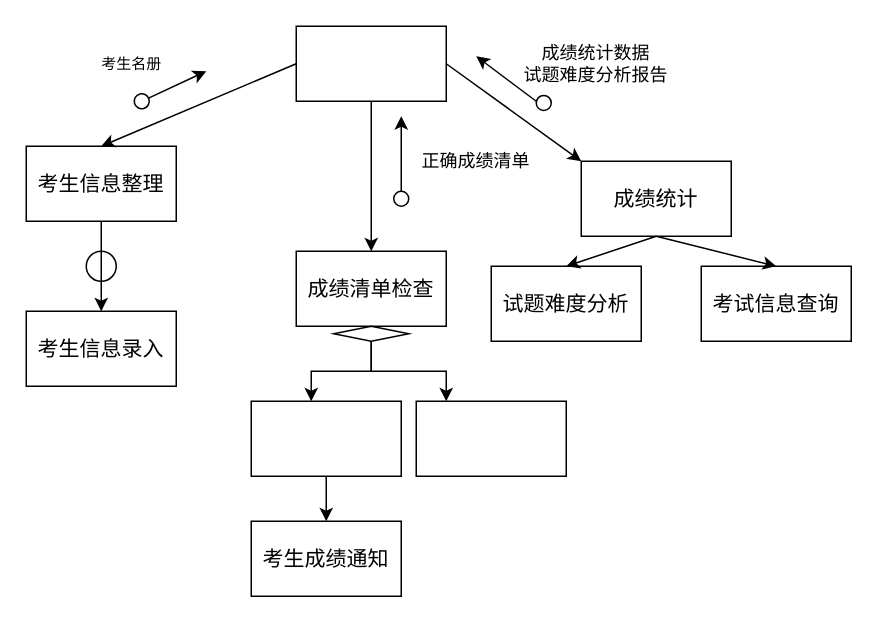
This 878x623 diagram has some shape labels left out. The centre of each missing label's shape, as x and y in pixels:
合格考生审定: the point at 325,438
考务管理: the point at 370,63
错误成绩返回重审: the point at 490,438
